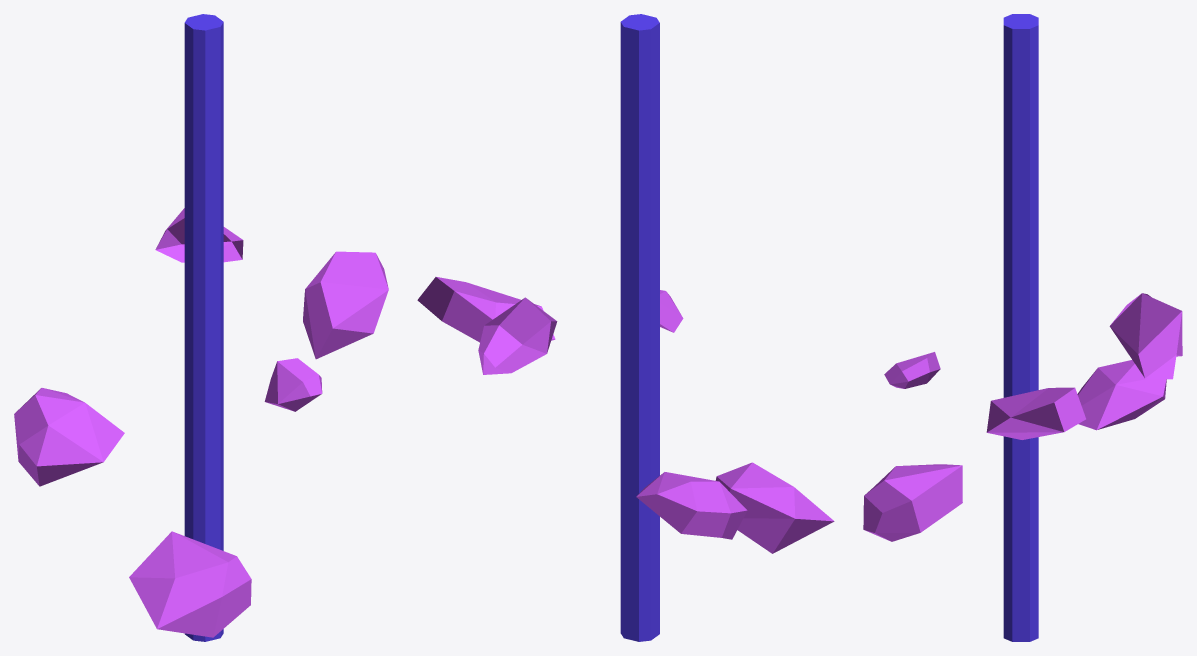
Rendered from 071_Rocks.fbx.
The picture shows the model from 3 angles, left to right: view 1: azimuth 30°, elevation 25°; view 2: azimuth 150°, elevation 25°; view 3: azimuth 270°, elevation 25°; orthographic projection.
Visible parts, largest first — view 1: Rocks1; view 2: Rocks1; view 3: Rocks1.
Part boxes in pixels (x1,y1,x2,y2): Rocks1: (14,14,388,641); Rocks1: (417,14,834,641); Rocks1: (863,14,1182,641).
Size of the model in its own units: 78.83 by 136 by 64.04.
